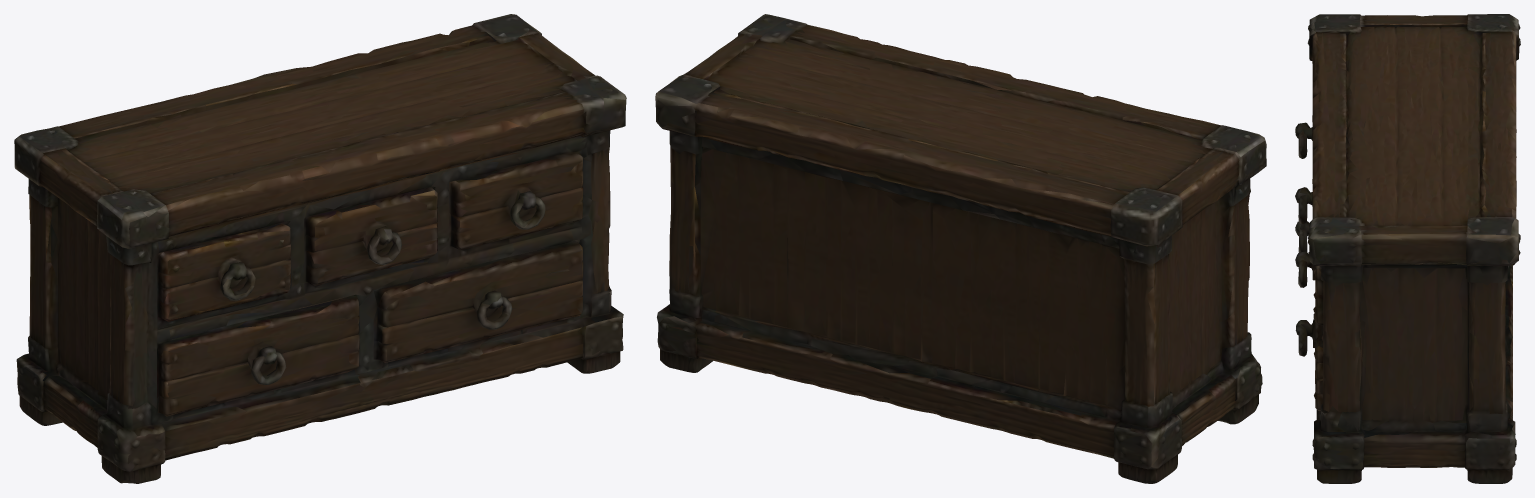
File: Dresser_04.fbx
3 views of the same model, side by side, from view 1: azimuth 30°, elevation 25°; view 2: azimuth 150°, elevation 25°; view 3: azimuth 270°, elevation 25° (orthographic). The views are drawn at different scales.
Parts seen in each view (by area): view 1: Dressers.004; view 2: Dressers.004; view 3: Dressers.004.
Part boxes in pixels (x1,y1,x2,y2): Dressers.004: (14, 14, 626, 483); Dressers.004: (655, 14, 1266, 483); Dressers.004: (1295, 14, 1520, 483).
Bounding box in the file's own units: 210 × 109 × 88.71.
Materials: 1 (1 with a texture image).
